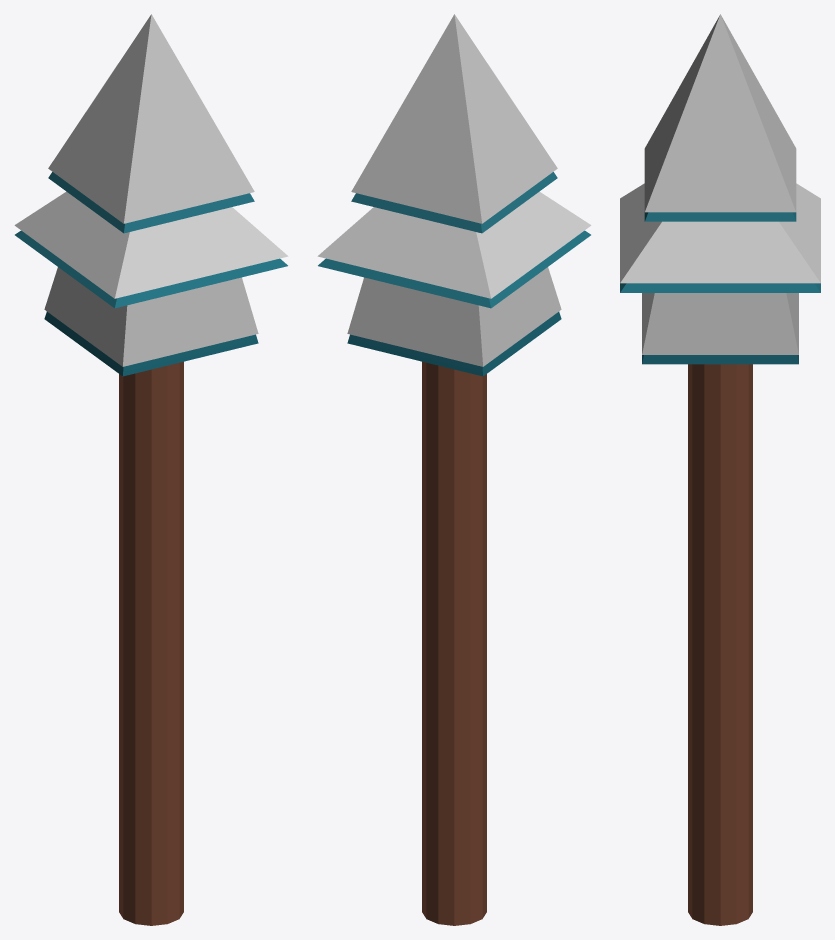
The model's file is Tree_15_winter_gradient_blue_vc.fbx.
The picture shows the model from 3 angles, left to right: view 1: azimuth 30°, elevation 25°; view 2: azimuth 150°, elevation 25°; view 3: azimuth 270°, elevation 25°; orthographic projection.
Visible parts, largest first — view 1: Tree_15_winter_gradient_blue_vc; view 2: Tree_15_winter_gradient_blue_vc; view 3: Tree_15_winter_gradient_blue_vc.
Boxes of the visible parts, left/top/right/bottom form: Tree_15_winter_gradient_blue_vc: left=14, top=14, right=288, bottom=925; Tree_15_winter_gradient_blue_vc: left=317, top=14, right=591, bottom=925; Tree_15_winter_gradient_blue_vc: left=620, top=14, right=820, bottom=925.
Size of the model in its own units: 68.73 by 339 by 68.73.
